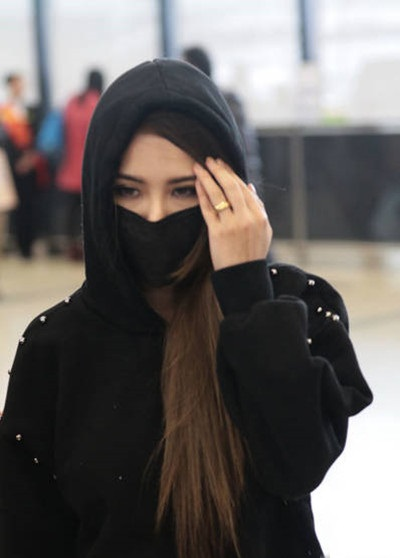face_mask: (106, 124, 208, 271)
